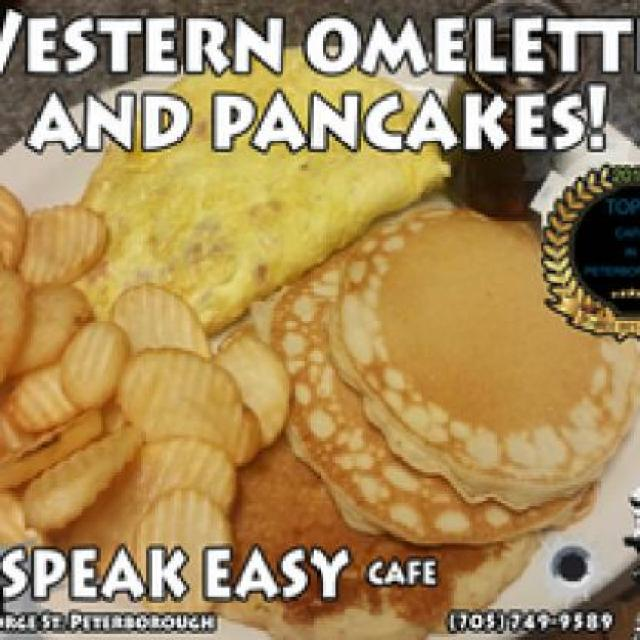omelette: (65, 60, 429, 282)
pancakes: (246, 180, 574, 603)
